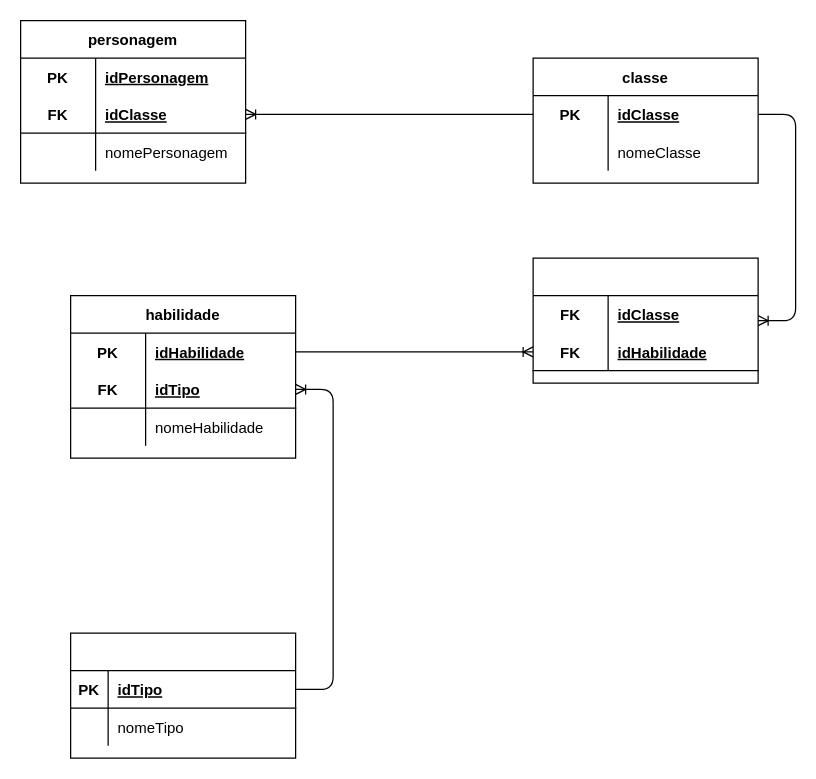
The diagram is 816 pixels wide and 779 high, and some of its shapes have lost their labels. Each missing label, with the box of its shape:
classe_habilidade: (532, 257, 758, 383)
tipoHabilidade: (69, 632, 296, 758)
